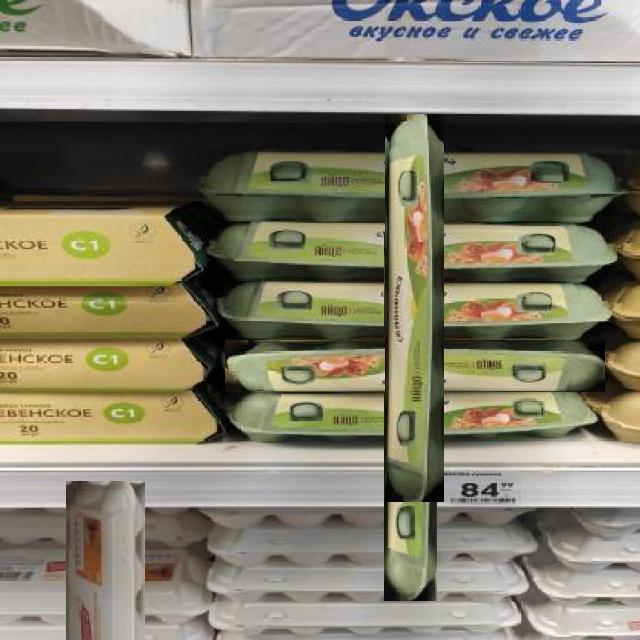Egg: (193, 143, 628, 222), (205, 221, 621, 284), (385, 114, 444, 502), (224, 339, 605, 392), (385, 232, 437, 601), (66, 480, 145, 640)
